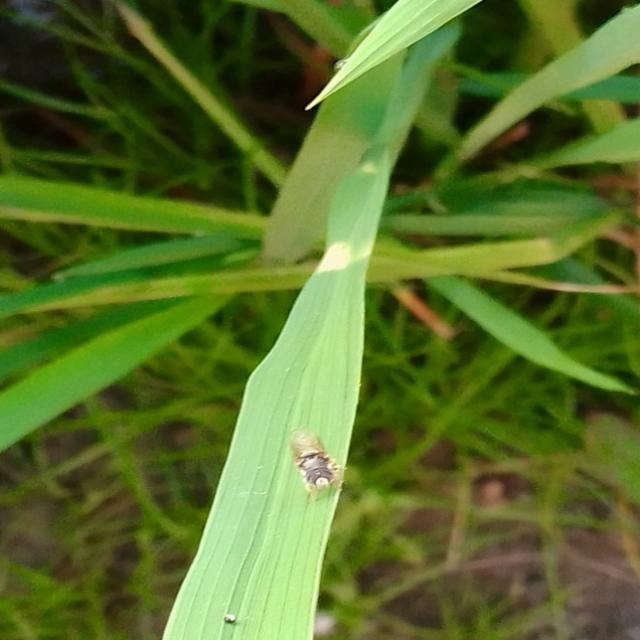healthy: (239, 392, 408, 538)
